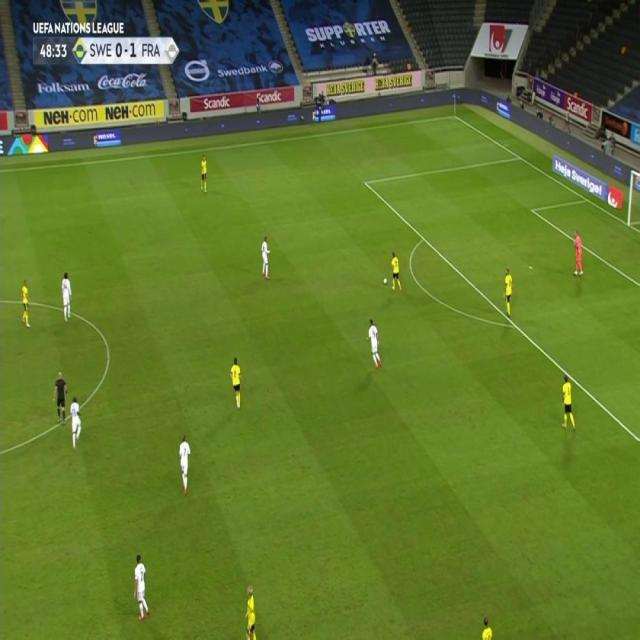ball: (382, 276, 388, 285)
goalkeeper: (572, 229, 586, 277)
player: (131, 552, 152, 620), (559, 373, 578, 435), (177, 432, 193, 497), (364, 317, 383, 369), (243, 583, 259, 640), (228, 355, 244, 411), (69, 395, 83, 450), (60, 270, 74, 321), (502, 266, 515, 320), (20, 277, 33, 327), (388, 250, 402, 292), (259, 235, 271, 280), (199, 153, 209, 192), (480, 614, 494, 639)
referee: (53, 367, 69, 424)
